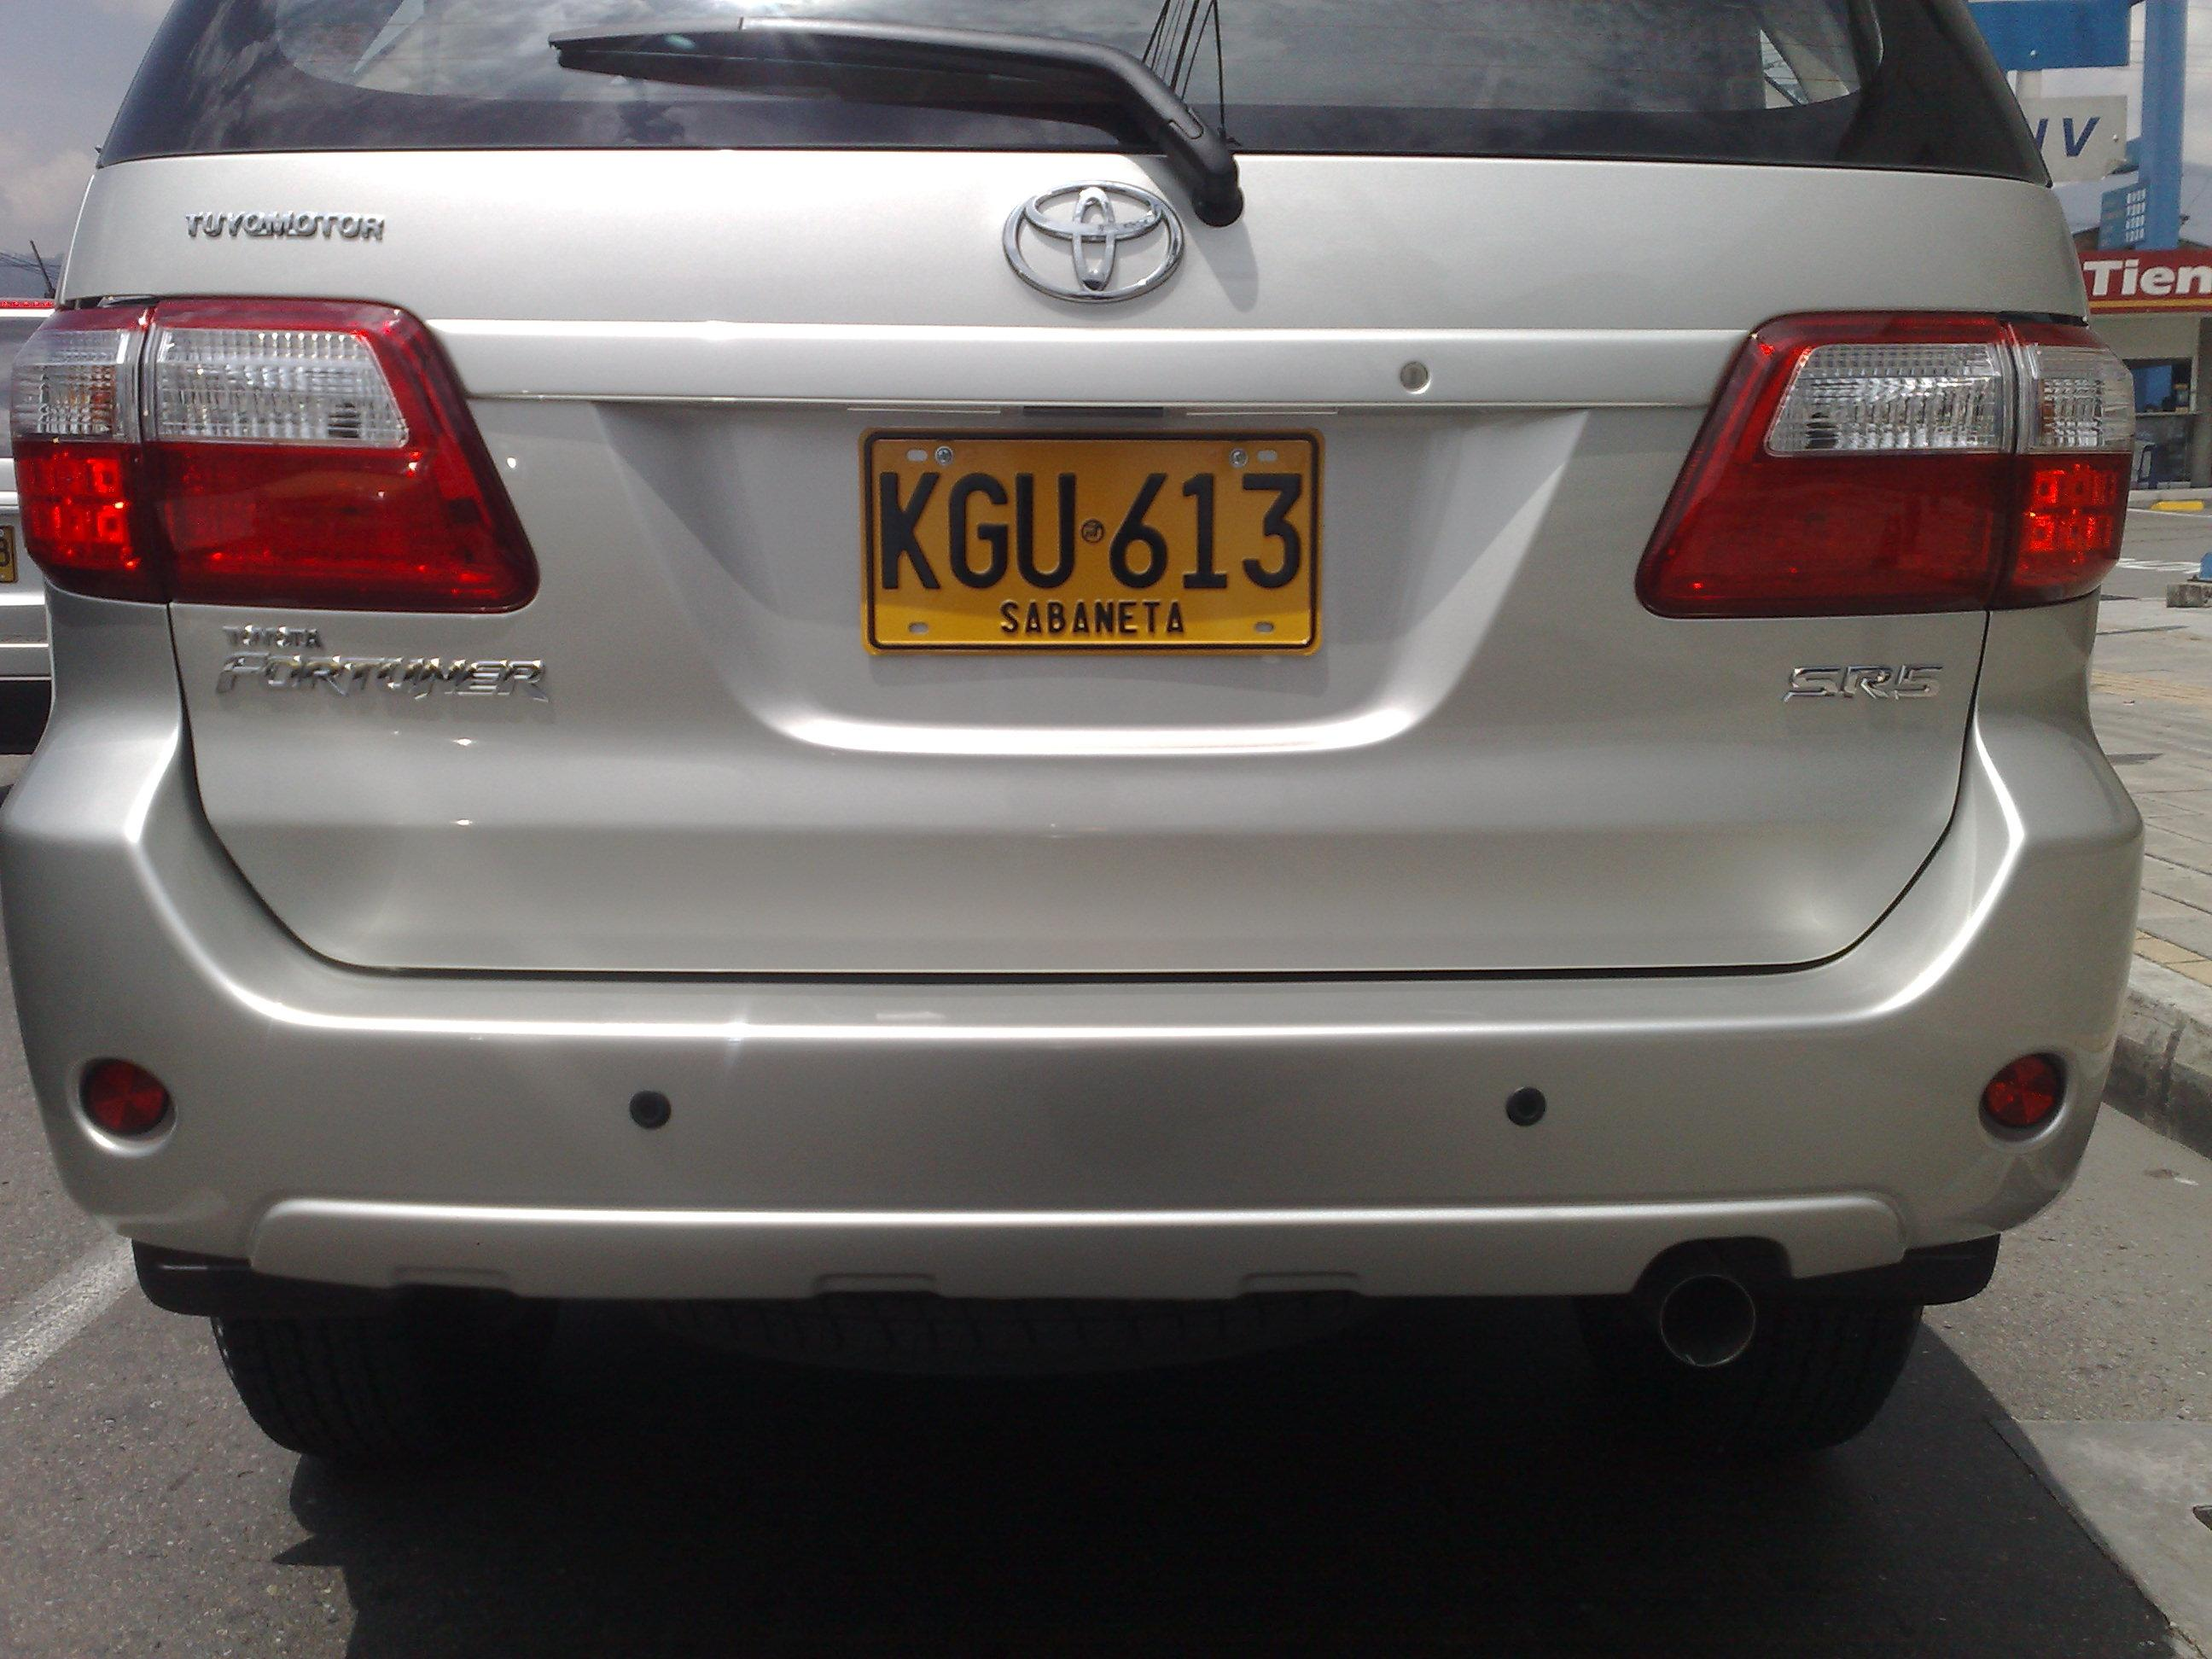placas: (853, 422, 1331, 663)
